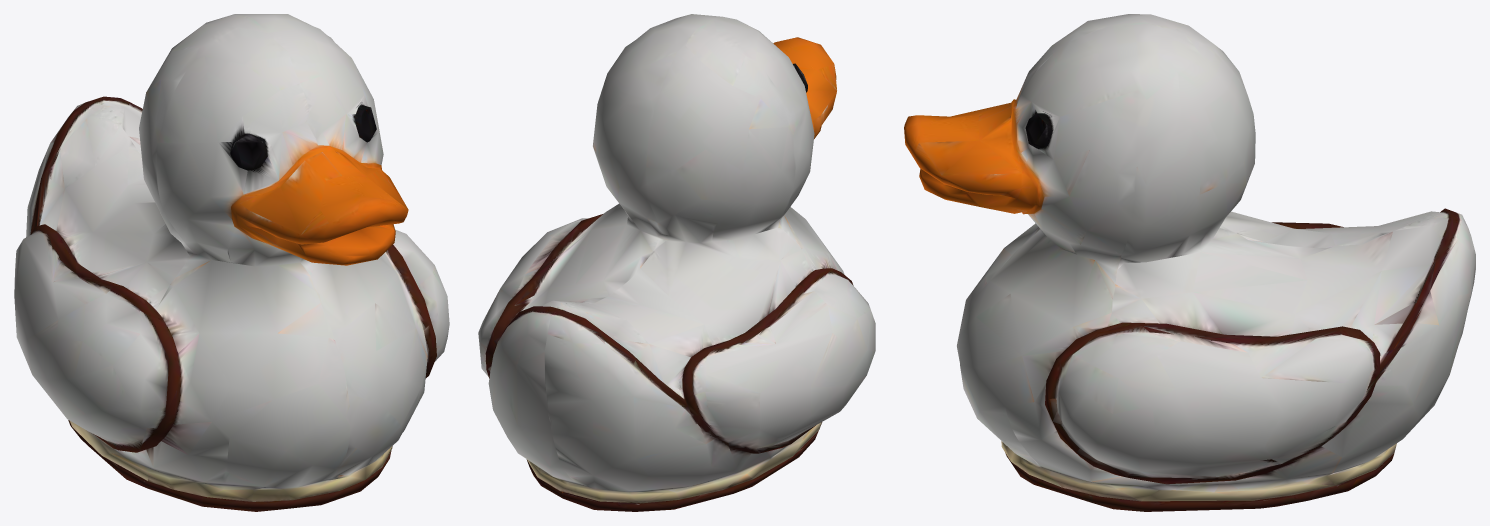
Rendered from duck.glb.
3 views of the same model, side by side, from view 1: azimuth 30°, elevation 25°; view 2: azimuth 150°, elevation 25°; view 3: azimuth 270°, elevation 25° (orthographic). The views are drawn at different scales.
Parts seen in each view (by area): view 1: Mesh_0; view 2: Mesh_0; view 3: Mesh_0.
Boxes of the visible parts, x1,y1,x2,y2 form: Mesh_0: [14, 14, 449, 511]; Mesh_0: [478, 14, 875, 511]; Mesh_0: [904, 14, 1475, 511].
Bounding box in the file's own units: 0.3517 × 0.4 × 0.4777.
Materials: 1 (1 with a texture image).
